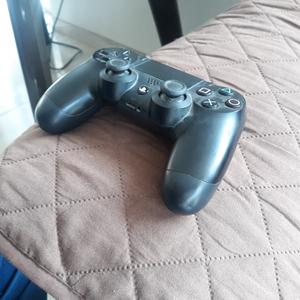controller: (35, 47, 245, 215)
